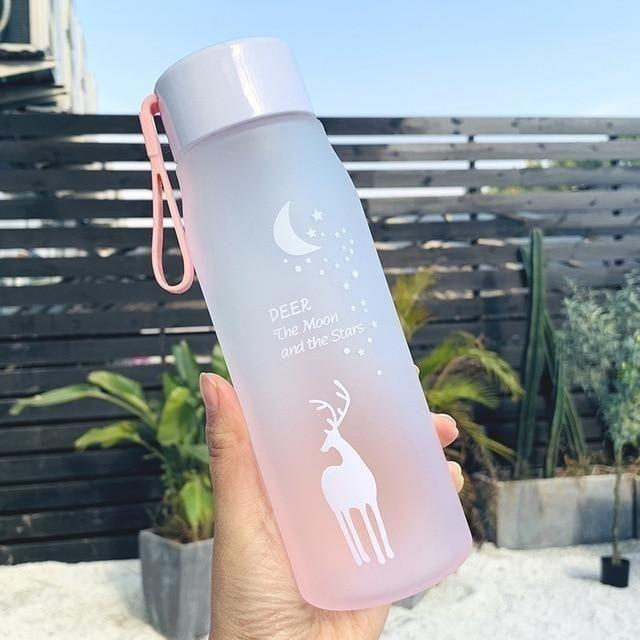gym bottle: (138, 38, 473, 611)
